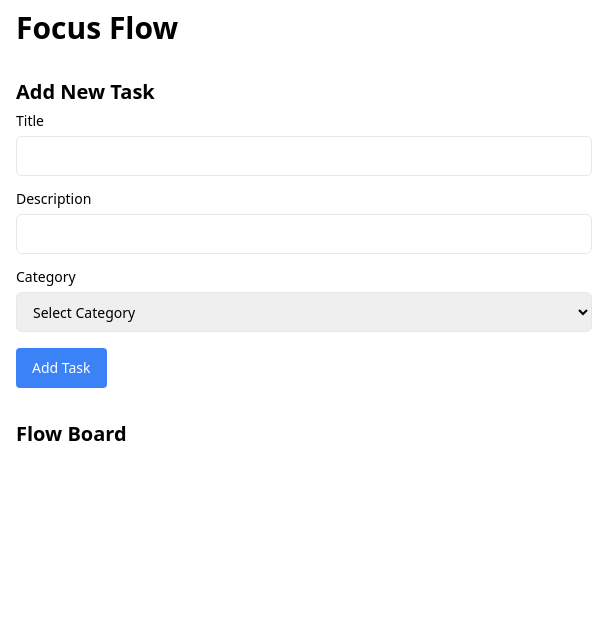
Scenario: AppWithContext component › handles deleteing an item
In the field labelled "Title": (304, 156) [16,136,592,176], type "test"
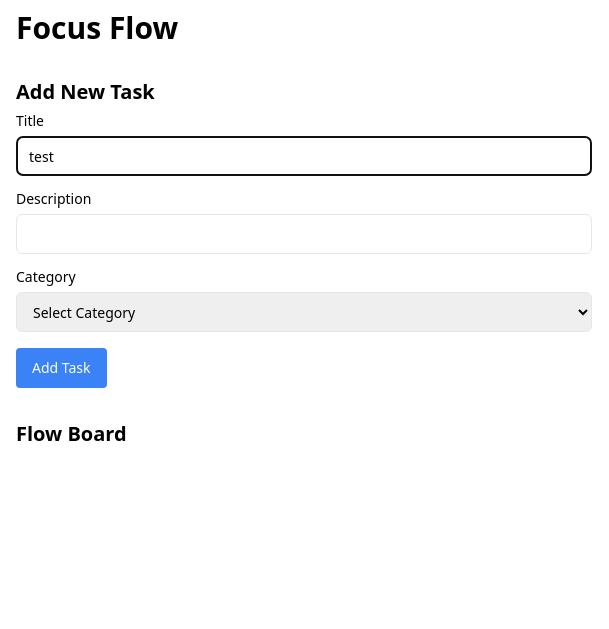
In the field labelled "Description": (304, 234) [16,214,592,254], type "testdescription"
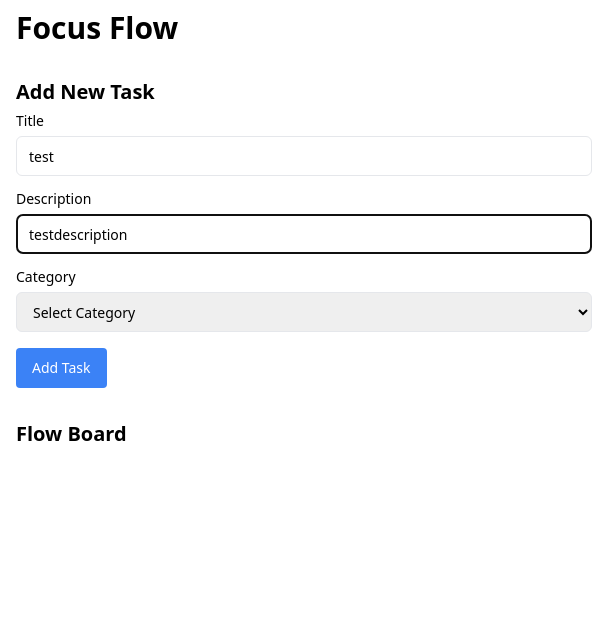
Select "Urgent" in the dropdown labelled "Category": (304, 312) [16,292,592,332]
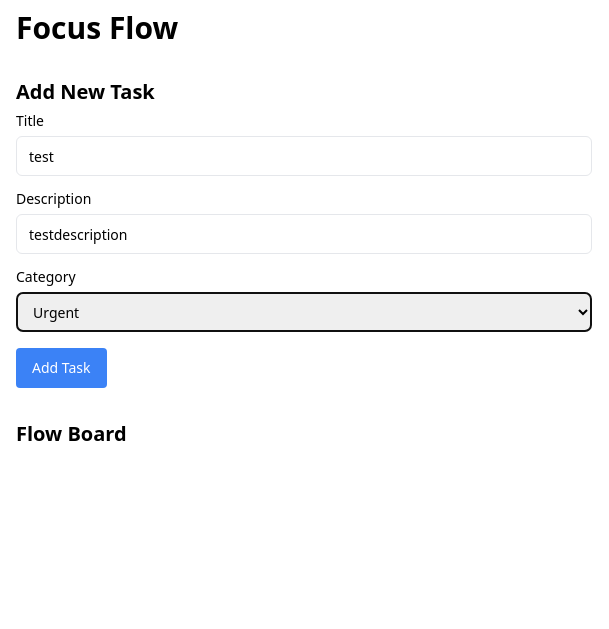
Click the button "Add Task": (61, 368) [16,348,106,388]
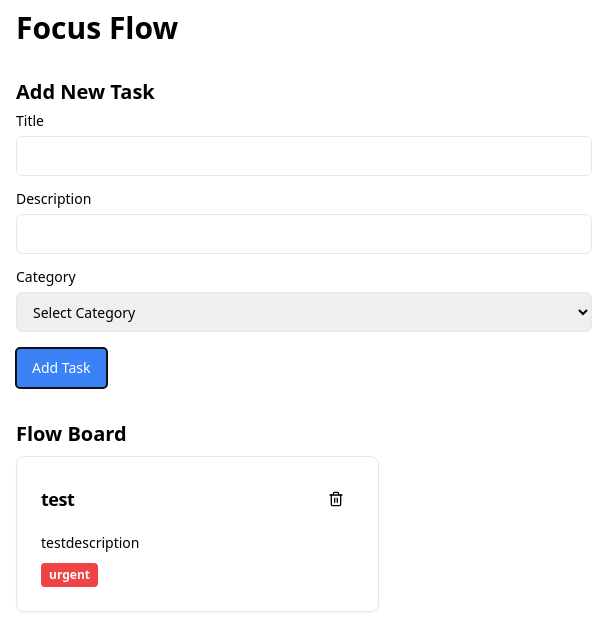
Expected: the button named "delete" is shown
Click the button named "delete": (336, 499) [318,481,354,517]
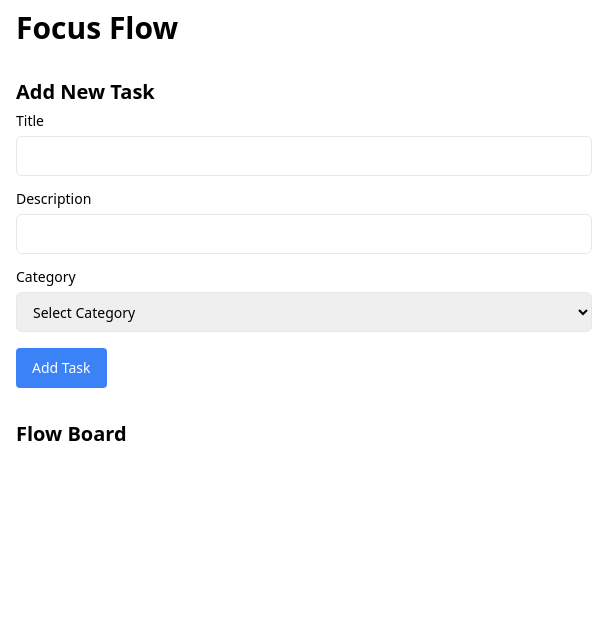
Expected: the heading "test" is gone
Expected: the text "testdescription" is gone
Expected: the text "urgent" is gone
